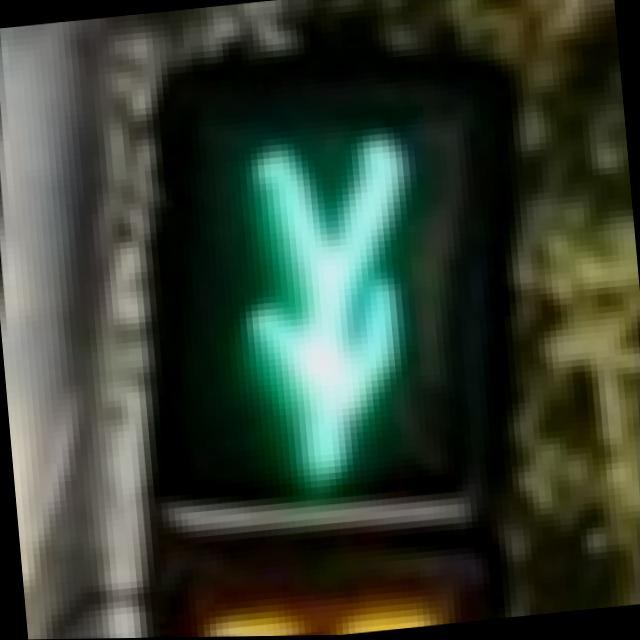green_light: (139, 85, 522, 564)
